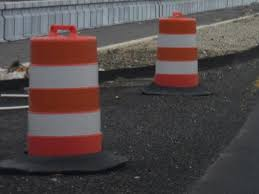barrel: (28, 34, 100, 155), (153, 14, 200, 87)
